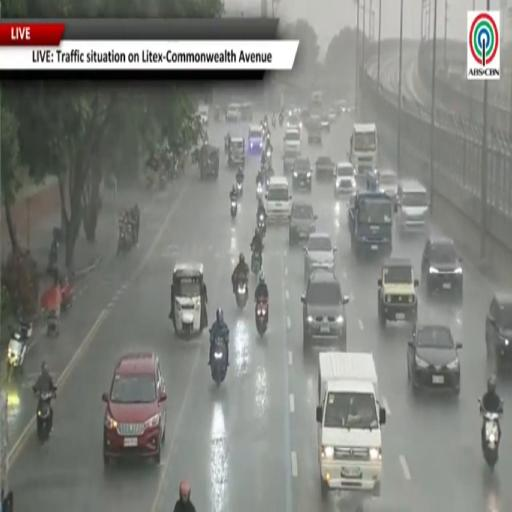car: (102, 352, 166, 463), (301, 269, 348, 350), (408, 325, 462, 394), (378, 259, 419, 328), (422, 237, 462, 298), (486, 293, 511, 367), (395, 180, 429, 232), (304, 233, 336, 279), (289, 202, 317, 246), (334, 163, 356, 196), (378, 169, 398, 202), (292, 158, 311, 191), (316, 156, 335, 180), (248, 125, 263, 152), (307, 122, 322, 145), (348, 191, 357, 229), (286, 112, 302, 131), (336, 100, 354, 115), (226, 104, 241, 122), (306, 114, 321, 130), (240, 103, 253, 121), (320, 113, 331, 132), (300, 108, 310, 126), (328, 108, 336, 122)
motorcycle: (479, 399, 502, 471), (8, 322, 32, 369), (36, 389, 56, 442), (210, 339, 227, 386), (117, 224, 133, 255), (255, 299, 268, 335), (60, 279, 74, 310), (236, 278, 248, 309), (47, 311, 59, 337), (252, 251, 262, 276), (256, 214, 266, 238), (159, 172, 167, 190), (256, 182, 263, 200), (231, 200, 237, 218), (236, 182, 242, 197), (225, 137, 229, 153), (279, 114, 284, 126), (266, 131, 270, 141), (272, 116, 275, 127)
truck: (316, 352, 386, 497), (349, 191, 393, 257), (0, 392, 13, 511), (349, 124, 377, 173)
